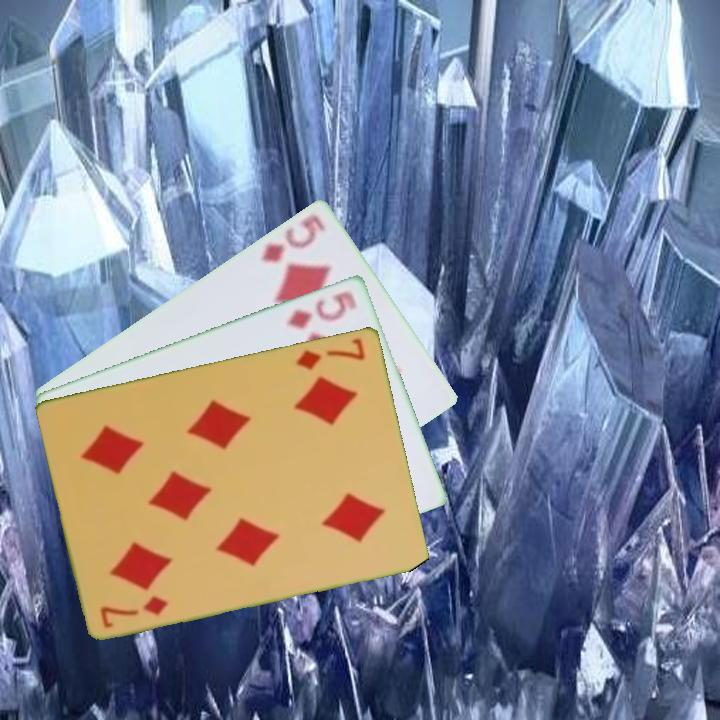5d: (257, 210, 328, 266), (282, 287, 360, 331)
7d: (292, 334, 369, 373), (97, 591, 171, 631)
